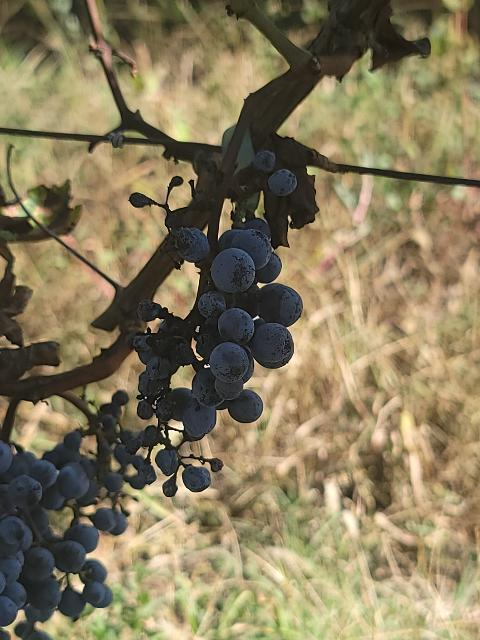grapes: (131, 215, 302, 495), (0, 441, 112, 640), (42, 390, 156, 535)
